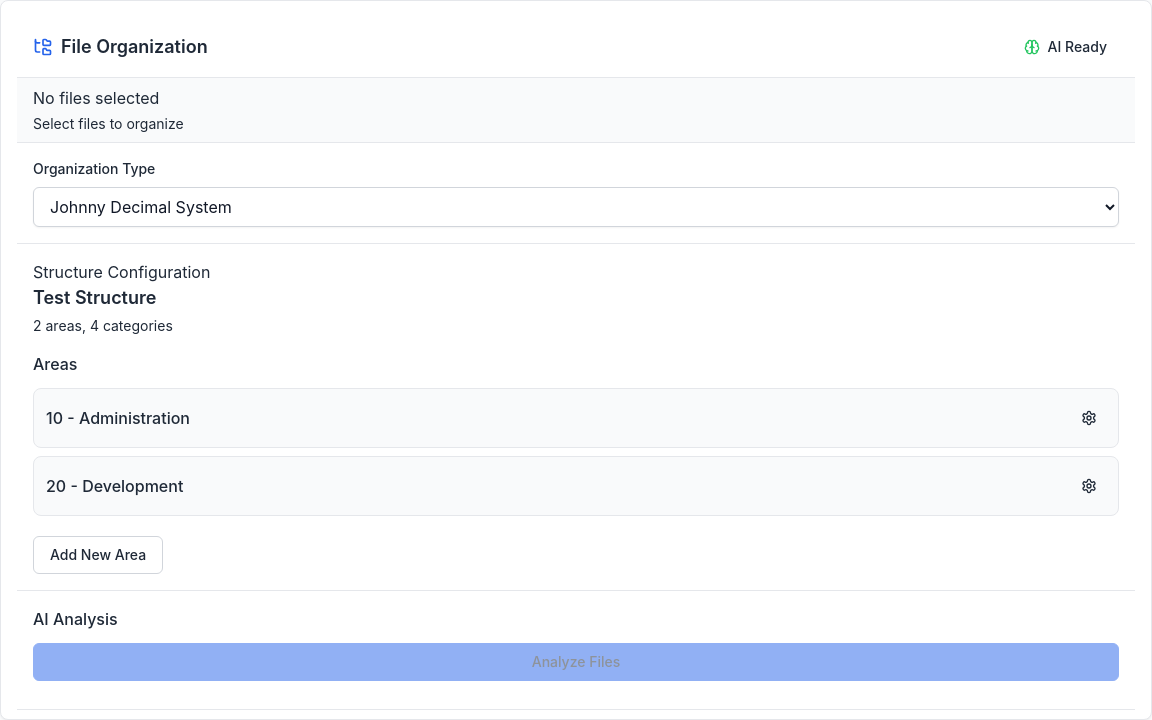
Component Integration Tests › Organization Workflow Integration › handles Johnny Decimal structure configuration
The image size is (1152, 720).
Modify structure
What coordinates should you click on to do the following:
click the button with class "add-area-btn"
I would click on:
 (98, 555)
Its box is [33,536,163,574].
(page scrolled)
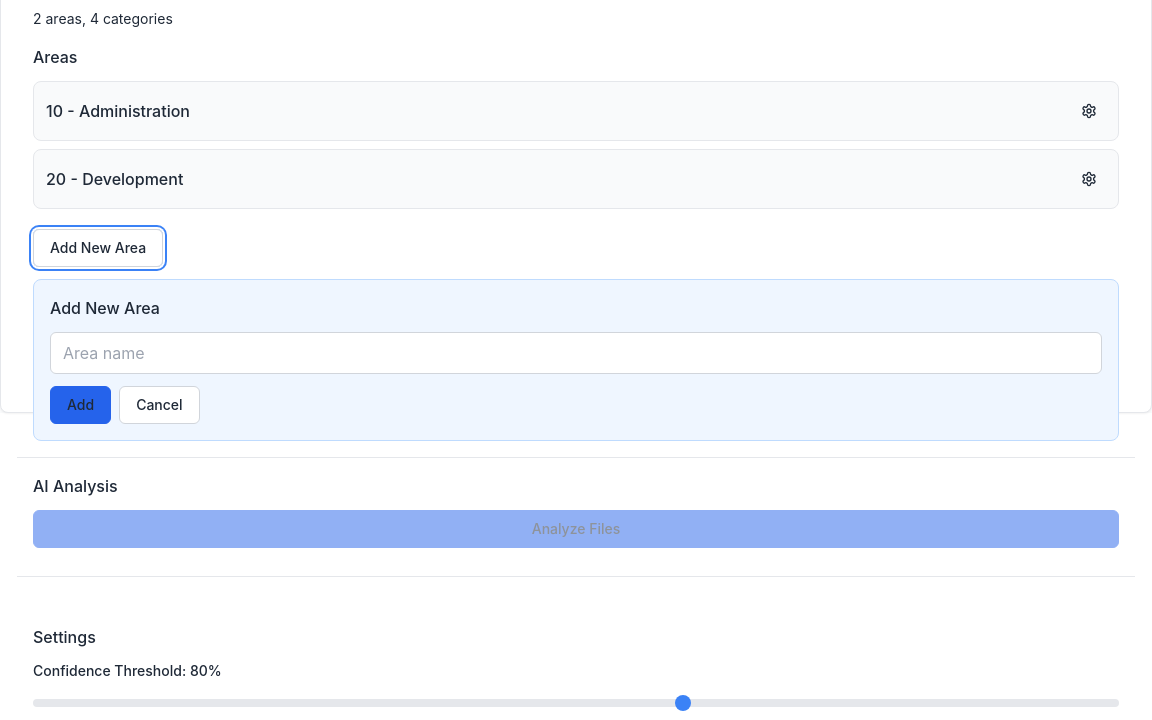
Expected: the element with class "add-area-dialog" is shown, [33,279,1119,441]
